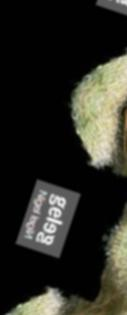Tomato leaf late blight: (17, 89, 127, 268)
